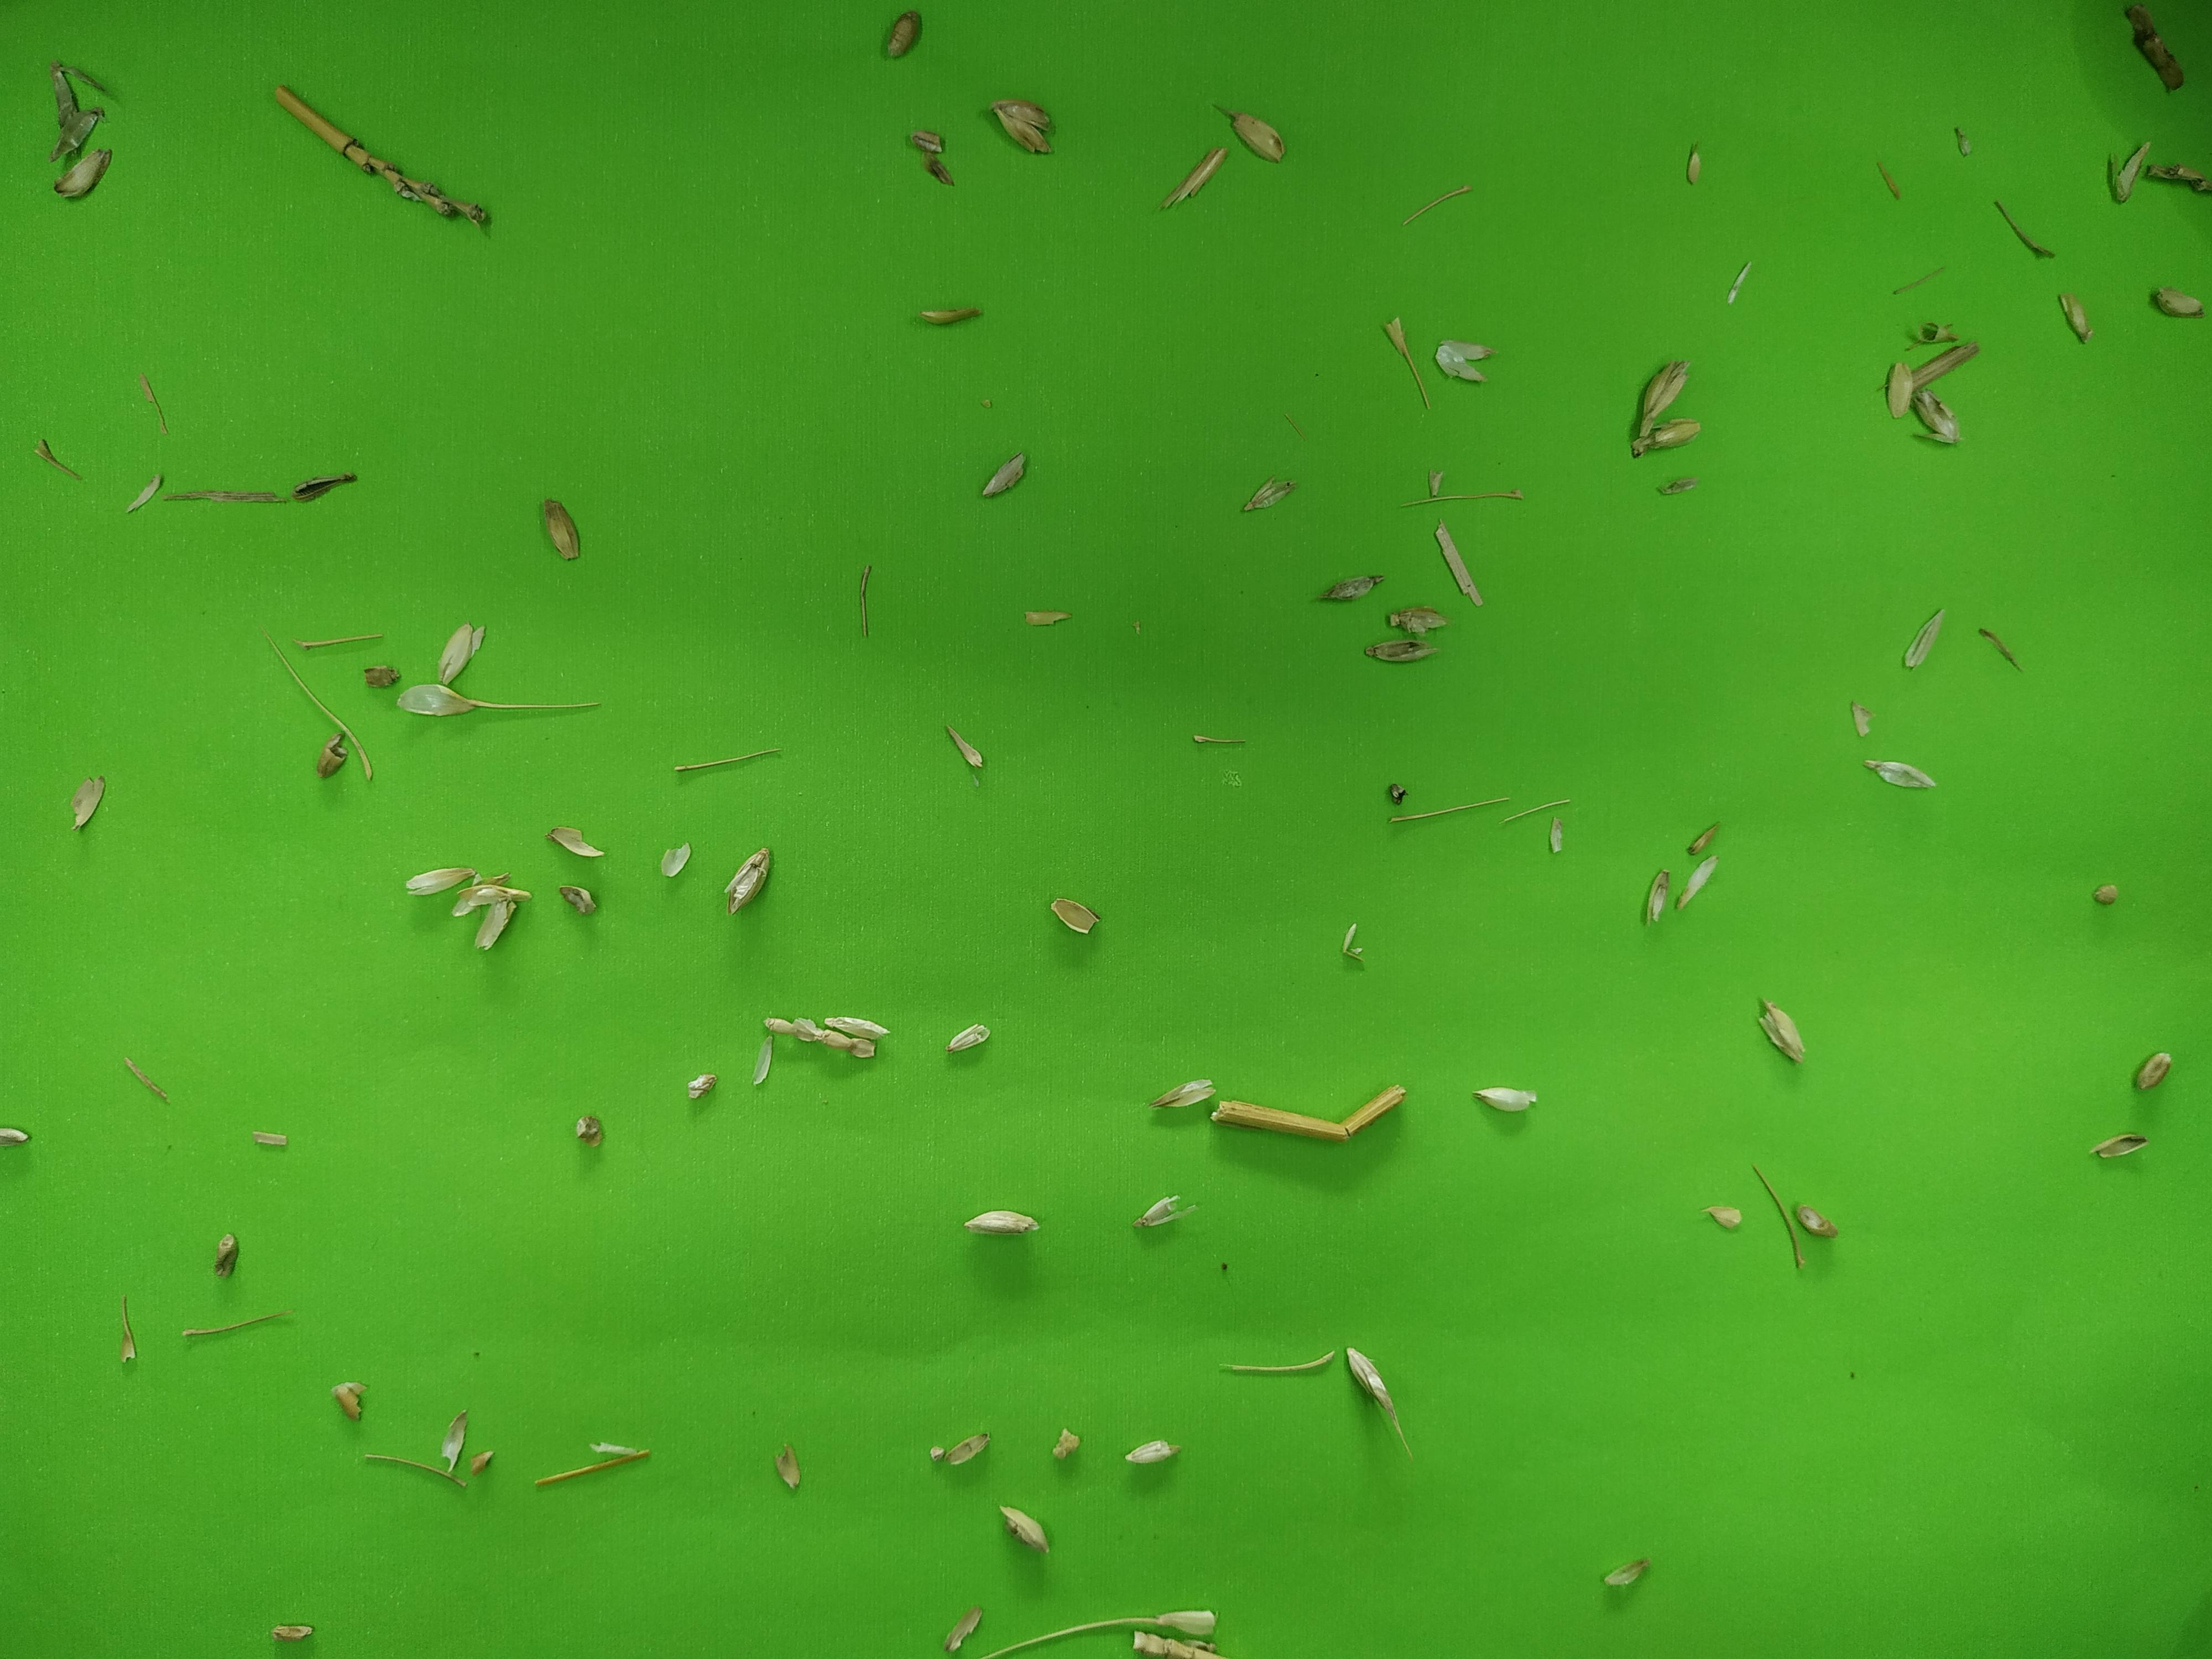bueno: (885, 7, 921, 63), (2134, 1049, 2174, 1094)
impureza: (275, 84, 488, 227), (265, 629, 374, 779), (1212, 1084, 1411, 1147), (986, 1608, 1219, 1656), (392, 678, 604, 723), (1345, 1344, 1416, 1462), (1627, 356, 1702, 462), (529, 1438, 655, 1490), (1752, 1157, 1806, 1269), (2121, 5, 2188, 96), (1423, 518, 1487, 608), (1376, 314, 1433, 415), (758, 1014, 878, 1060), (1209, 98, 1287, 164), (1155, 143, 1223, 213), (721, 838, 779, 920), (361, 1450, 469, 1493), (1754, 988, 1811, 1066), (1211, 1347, 1338, 1380), (181, 1303, 294, 1340), (1905, 338, 1986, 389), (991, 96, 1055, 157), (437, 615, 491, 687), (672, 742, 786, 775), (1386, 795, 1512, 824), (1893, 603, 1947, 671), (52, 146, 117, 202), (51, 101, 106, 166), (1397, 181, 1472, 228), (958, 1202, 1043, 1243), (1994, 199, 2054, 256), (1435, 335, 1498, 387), (1399, 486, 1524, 512), (446, 882, 535, 918), (1139, 1077, 1219, 1115), (1912, 389, 1961, 451), (1858, 756, 1942, 793), (164, 486, 298, 509), (1972, 620, 2026, 676), (1132, 1183, 1190, 1236), (927, 1425, 995, 1469), (2107, 139, 2153, 204), (120, 1049, 171, 1107), (401, 864, 474, 903), (542, 823, 611, 863), (1468, 1080, 1540, 1119), (979, 451, 1029, 505), (472, 897, 521, 953), (1674, 854, 1719, 913), (66, 775, 111, 833), (1360, 636, 1442, 667), (996, 1502, 1049, 1551), (1789, 1199, 1843, 1246), (941, 720, 986, 775), (545, 495, 582, 563), (1381, 605, 1456, 638), (939, 1607, 989, 1656), (31, 436, 84, 483), (59, 64, 125, 101), (1879, 352, 1918, 415), (118, 467, 167, 516), (906, 303, 988, 331), (315, 727, 359, 779), (1892, 256, 1951, 295), (296, 467, 361, 502), (1501, 796, 1576, 826), (1904, 317, 1961, 356), (1047, 892, 1099, 934), (745, 1033, 780, 1096), (51, 58, 80, 131), (2148, 160, 2212, 193), (113, 1286, 139, 1366), (1247, 471, 1299, 511), (145, 371, 176, 437), (444, 1408, 474, 1478), (1721, 256, 1757, 312), (852, 563, 878, 640), (1334, 911, 1369, 969), (1325, 572, 1385, 605), (826, 1014, 892, 1044), (294, 631, 387, 652), (1641, 864, 1670, 927), (768, 1446, 805, 1497), (2146, 286, 2202, 319), (331, 1375, 369, 1422), (2094, 1131, 2153, 1161), (556, 880, 601, 918), (1049, 1420, 1087, 1466), (2060, 295, 2094, 343), (1125, 1439, 1179, 1469), (1190, 730, 1251, 756), (1683, 817, 1723, 856), (658, 840, 693, 884), (571, 1110, 606, 1154), (212, 1229, 240, 1283), (355, 659, 402, 690), (1874, 153, 1904, 202), (946, 1023, 991, 1054), (1024, 605, 1075, 633), (1601, 1560, 1648, 1589), (249, 1122, 291, 1155), (266, 1619, 315, 1647), (1655, 476, 1707, 500), (1843, 697, 1872, 739), (683, 1066, 719, 1100), (1947, 125, 1980, 162), (1703, 1202, 1742, 1232), (925, 155, 956, 188), (2088, 882, 2121, 913), (1679, 146, 1703, 188), (1545, 816, 1568, 857), (907, 131, 946, 155), (472, 1448, 495, 1481), (1383, 777, 1409, 805), (1425, 469, 1447, 500)
